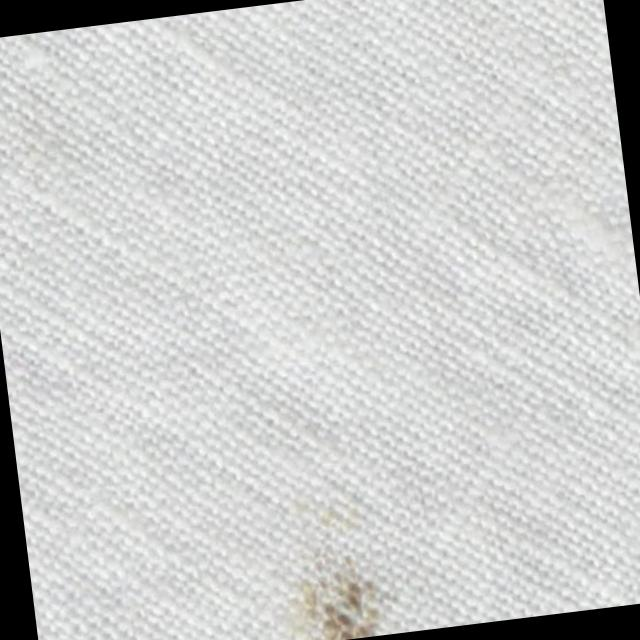Stain: (283, 555, 386, 640)
